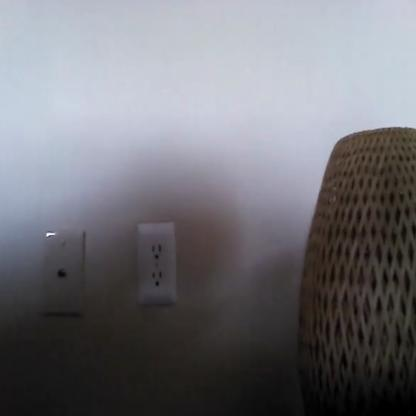OUTLET: (136, 223, 178, 304)
